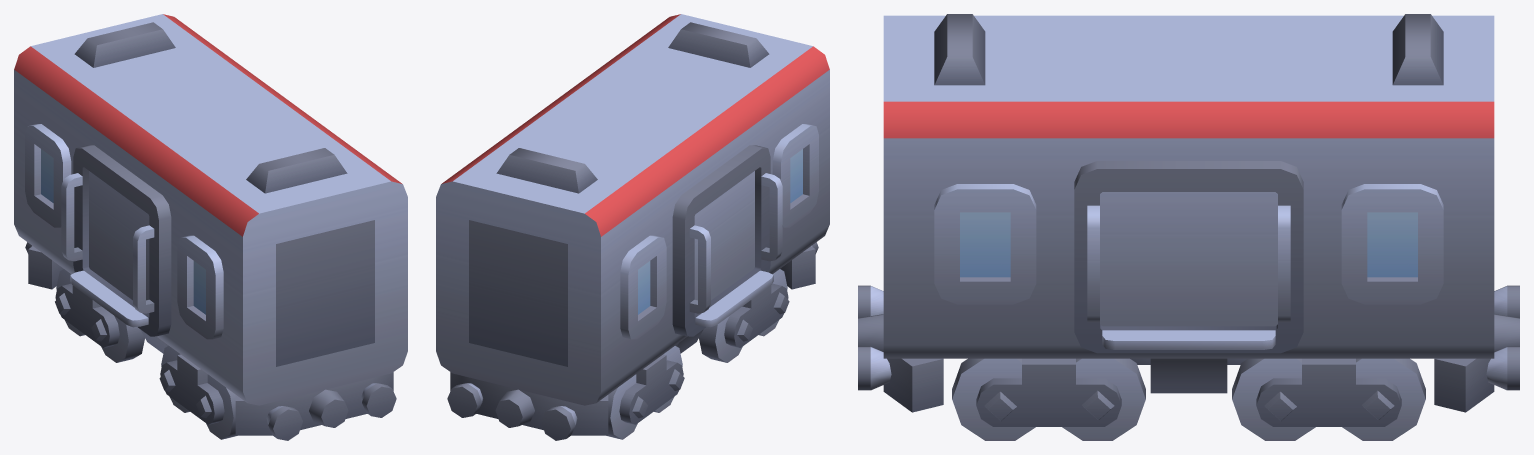
The model's file is kenney-train-train-electric-subway-c.glb.
The picture shows the model from 3 angles, left to right: view 1: azimuth 30°, elevation 25°; view 2: azimuth 150°, elevation 25°; view 3: azimuth 270°, elevation 25°; orthographic projection. The views are drawn at different scales.
Visible parts, largest first — view 1: train-electric-subway-c; view 2: train-electric-subway-c; view 3: train-electric-subway-c.
Part boxes in pixels (x1,y1,x2,y2): train-electric-subway-c: (14,14,407,440); train-electric-subway-c: (436,14,829,440); train-electric-subway-c: (858,14,1519,440).
Bounding box in the file's own units: 1.35 × 1.57 × 2.6.
Materials: 1 (1 with a texture image).
